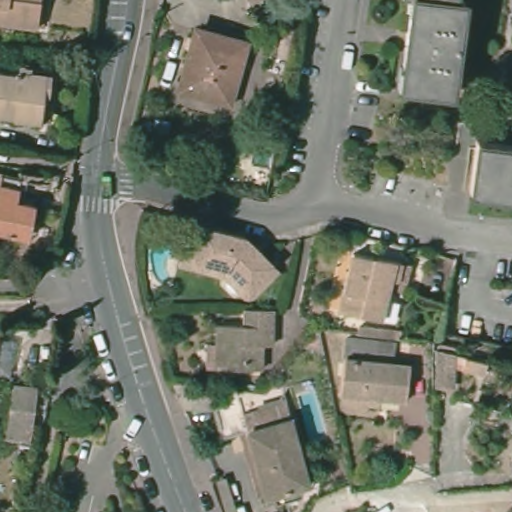pool: (291, 383, 331, 448), (145, 244, 180, 288)
